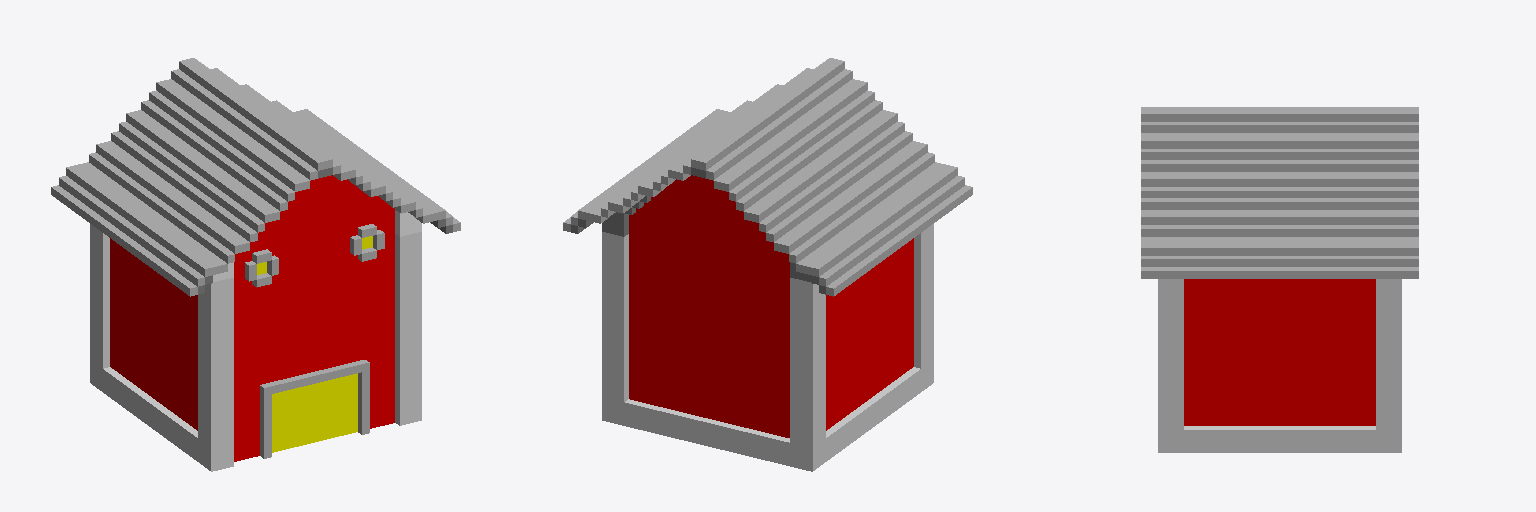
3 renders of one model, left to right at view 1: azimuth 30°, elevation 25°; view 2: azimuth 150°, elevation 25°; view 3: azimuth 270°, elevation 25°, orthographic.
Parts seen in each view (by area): view 1: object 1; view 2: object 1; view 3: object 1.
Part boxes in pixels (left/top/right/bottom): object 1: left=51, top=58, right=460, bottom=471; object 1: left=563, top=58, right=972, bottom=471; object 1: left=1141, top=107, right=1418, bottom=452.
Bounding box in the file's own units: 3.6 × 3.7 × 3.2.
Materials: 1 (1 with a texture image).